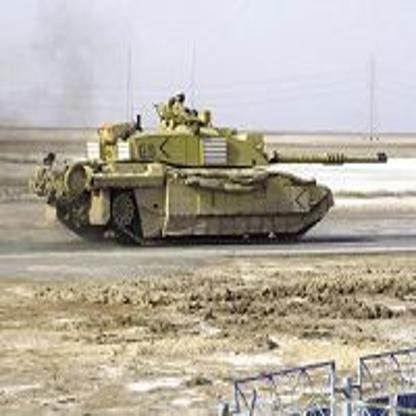Tank: (24, 97, 397, 252)
